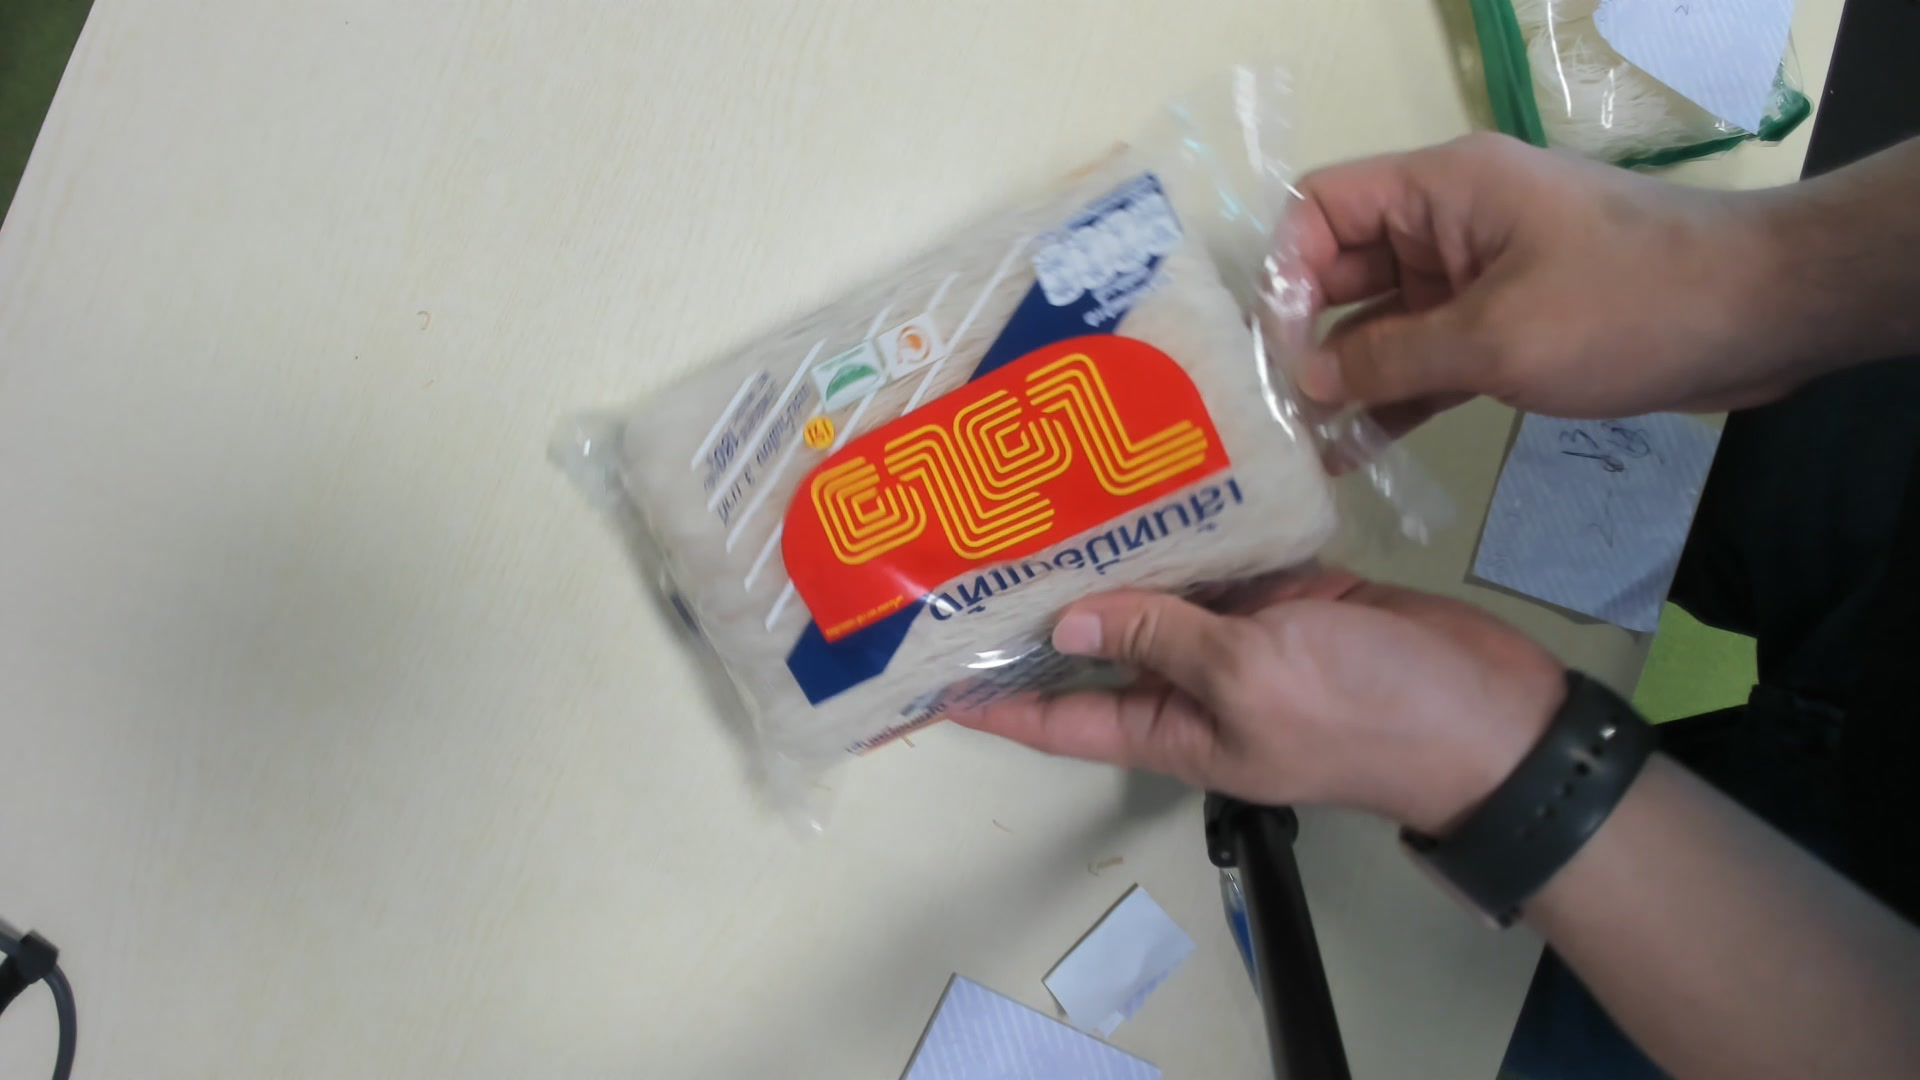BeeHoonVermicelli_100-199g_NonHalal_NonHealthy: (583, 108, 1424, 775)
